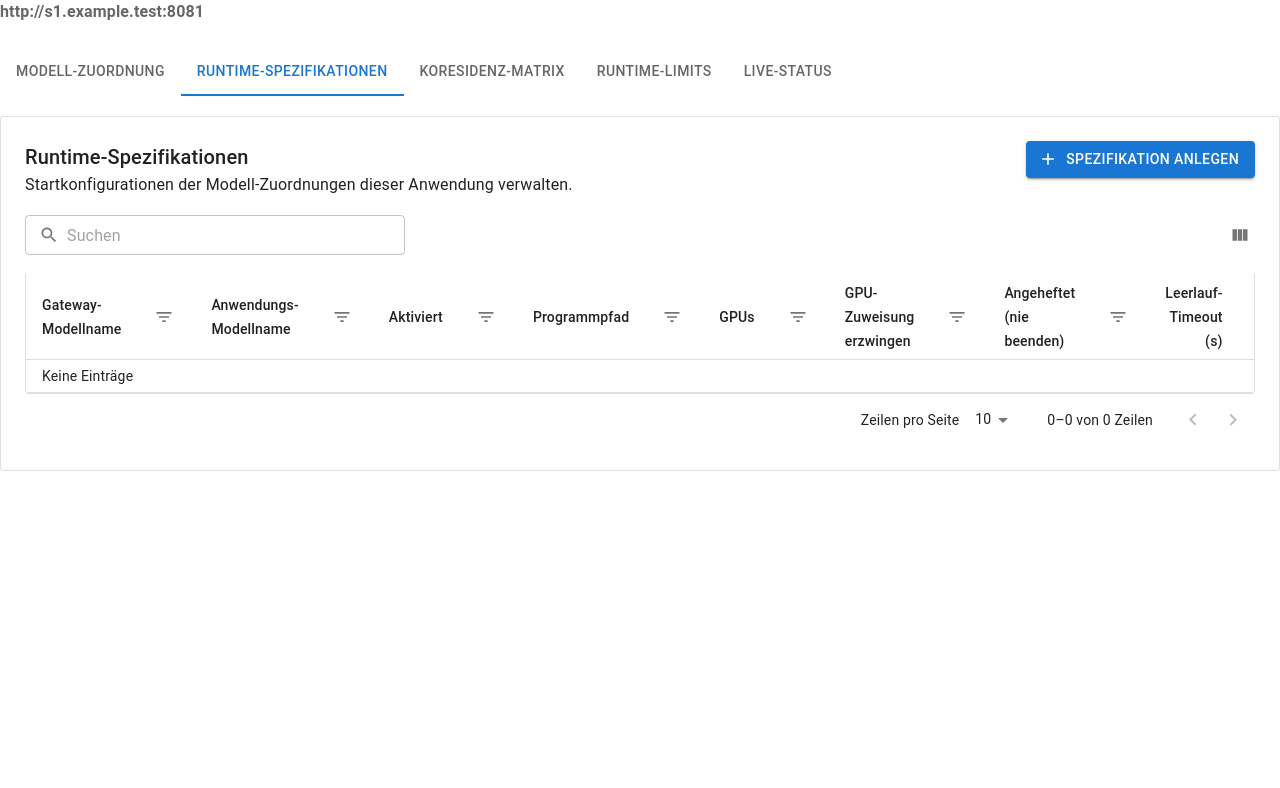
RuntimeAdminSection create (mapping + spec) › shows the API-variant controls in the spec create form
This screenshot has width=1280, height=788.
Click the button "Spezifikation anlegen" at point(1141, 159), box [1026,141,1255,178]
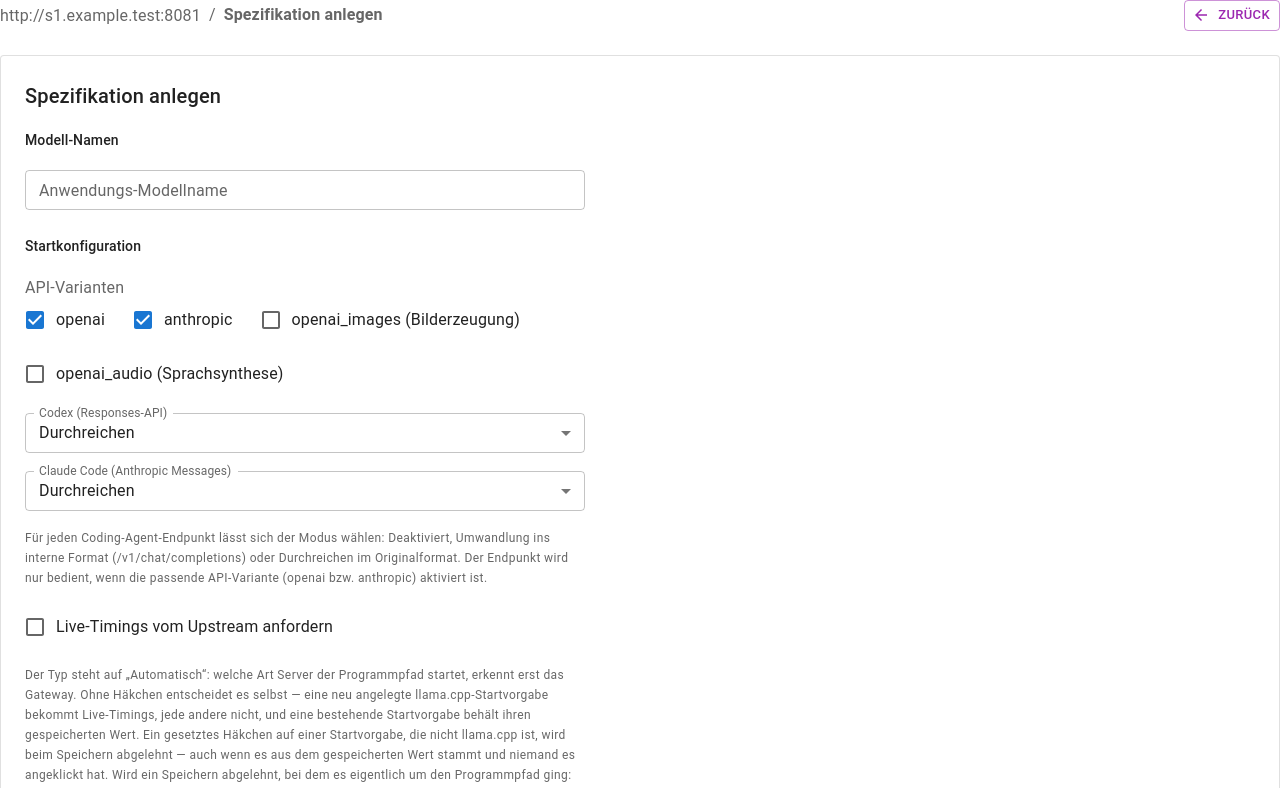
Result: the dropdown named "Codex (Responses-API)" is shown at [39,423,135,442]
Result: the dropdown named "Claude Code (Anthropic Messages)" is shown at [39,481,135,500]
Result: the checkbox labelled "openai" is shown at [23,308,105,332]
